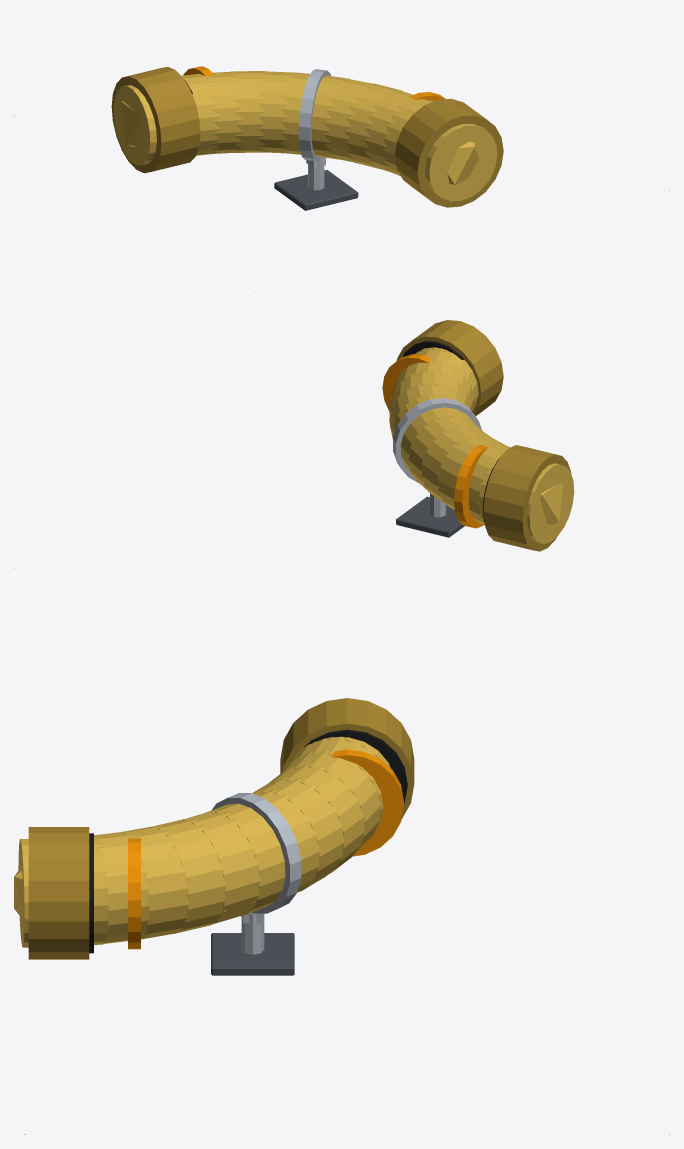
File: tuyau_coude_t2.glb
The picture shows the model from 3 angles, top to bottom: view 1: azimuth 30°, elevation 25°; view 2: azimuth 150°, elevation 25°; view 3: azimuth 270°, elevation 25°; orthographic projection. The views are drawn at different scales.
Parts seen in each view (by area): view 1: pieces_laiton.014, pieces_laiton_sombre.014, pieces_acier_sombre.050, pieces_gris_clair.014, pieces_rive_t2.016; view 2: pieces_laiton.014, pieces_laiton_sombre.014, pieces_rive_t2.016, pieces_gris_clair.014, pieces_acier_sombre.050; view 3: pieces_laiton.014, pieces_laiton_sombre.014, pieces_rive_t2.016, pieces_gris_clair.014, pieces_acier_sombre.050, pieces_noir.022.
Boxes of the visible parts, x1,y1,x2,y2 form: pieces_laiton.014: (113,71,497,201); pieces_laiton_sombre.014: (111,66,503,207); pieces_acier_sombre.050: (274,170,358,210); pieces_gris_clair.014: (298,69,330,190); pieces_rive_t2.016: (183,66,445,101); pieces_laiton.014: (389,347,574,543); pieces_laiton_sombre.014: (396,320,571,551); pieces_rive_t2.016: (382,354,487,528); pieces_gris_clair.014: (393,398,481,517); pieces_acier_sombre.050: (396,496,464,537); pieces_laiton.014: (14,736,390,947); pieces_laiton_sombre.014: (28,698,414,959); pieces_rive_t2.016: (128,749,403,949); pieces_gris_clair.014: (212,793,301,954); pieces_acier_sombre.050: (211,933,294,975); pieces_noir.022: (89,729,407,953).
Bounding box in the file's own units: 1.02 × 0.2837 × 1.02.
